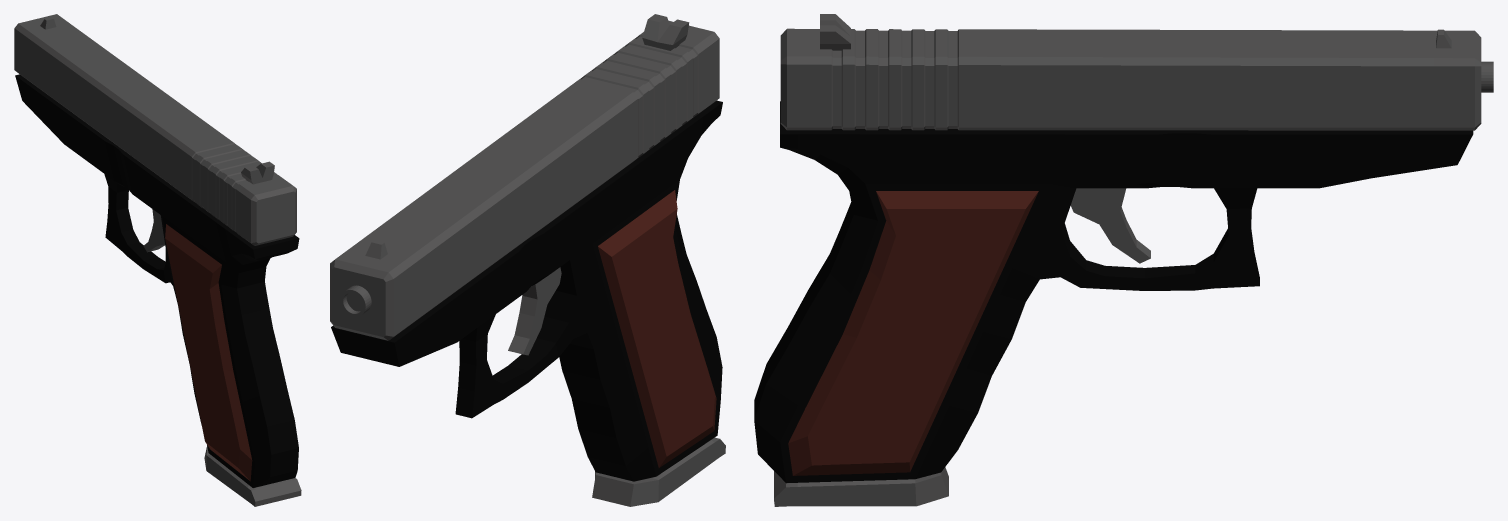
Rendered from weapon.fbx.
3 views of the same model, side by side, from view 1: azimuth 30°, elevation 25°; view 2: azimuth 150°, elevation 25°; view 3: azimuth 270°, elevation 25° (orthographic). The views are drawn at different scales.
Parts seen in each view (by area): view 1: body, barrel, magazine, trigger; view 2: body, barrel, magazine, trigger; view 3: body, barrel, magazine, trigger.
Boxes of the visible parts, box(x1,y1,x2,y2) form: body: box(15, 74, 299, 487); barrel: box(14, 14, 296, 245); magazine: box(204, 446, 301, 506); trigger: box(143, 209, 164, 252); body: box(331, 100, 722, 481); barrel: box(330, 14, 719, 340); magazine: box(592, 437, 725, 506); trigger: box(508, 267, 561, 355); body: box(754, 101, 1473, 483); barrel: box(780, 14, 1493, 130); magazine: box(774, 467, 948, 506); trigger: box(1070, 188, 1150, 263).
Size of the model in its own units: 580 by 3325 by 4765.
